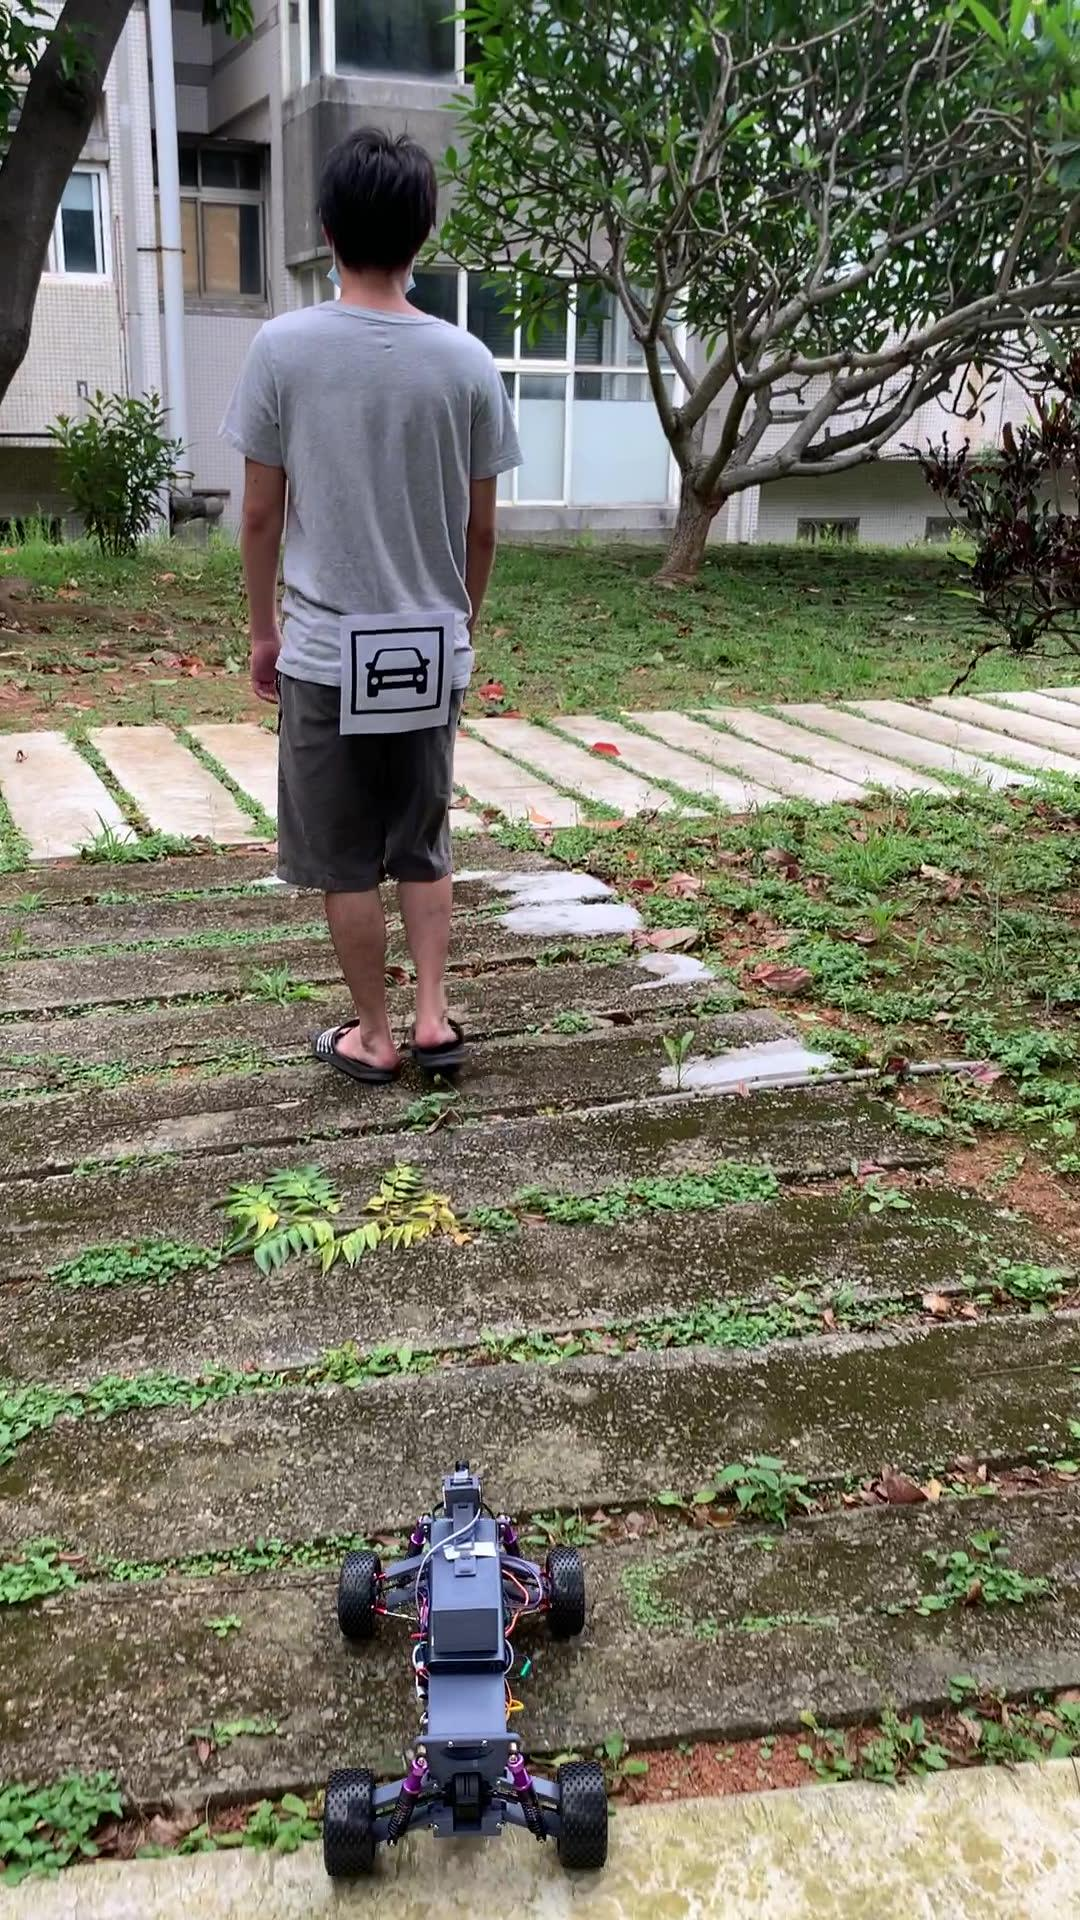car_img: (351, 625, 444, 715)
